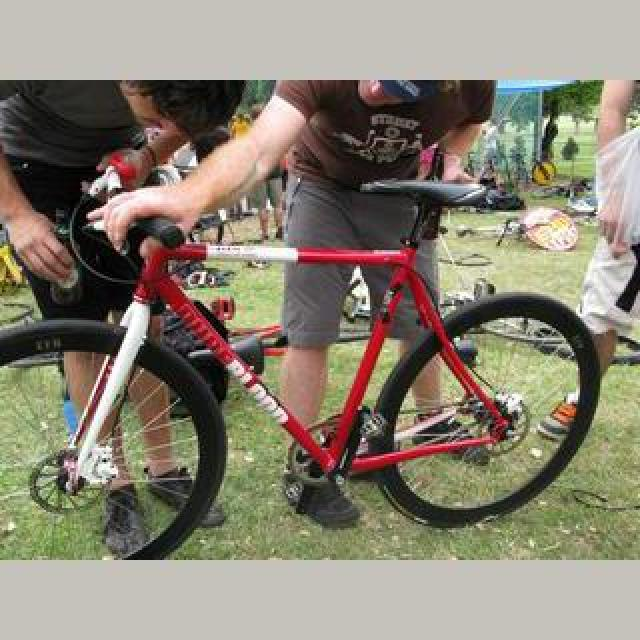MC-Bike: (96, 80, 494, 538)
Person: (0, 154, 602, 560)
